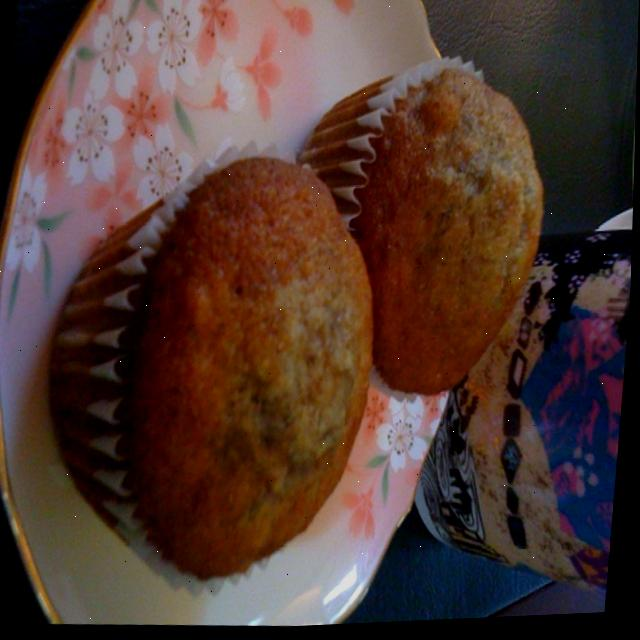炸货点心: (55, 12, 561, 608)
面包点心: (55, 12, 561, 608)
